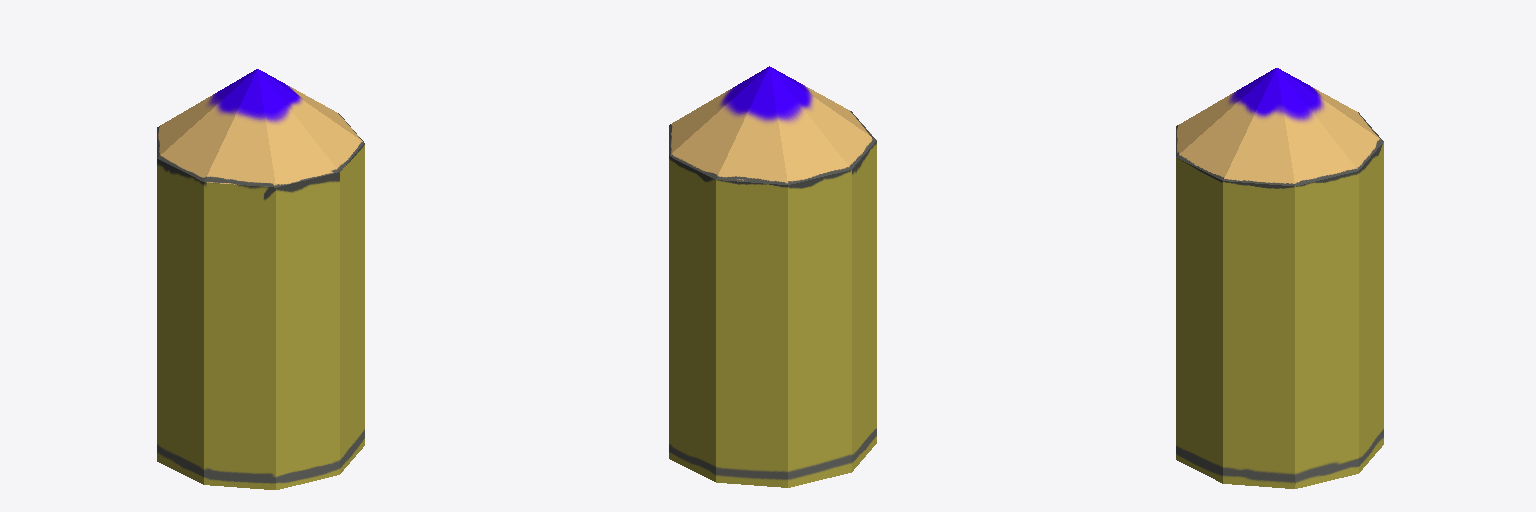
3 renders of one model, left to right at view 1: azimuth 30°, elevation 25°; view 2: azimuth 150°, elevation 25°; view 3: azimuth 270°, elevation 25°, orthographic.
Parts seen in each view (by area): view 1: Circle; view 2: Circle; view 3: Circle.
Boxes of the visible parts, x1=… form: Circle: x1=157, y1=69, x2=364, y2=489; Circle: x1=669, y1=66, x2=876, y2=487; Circle: x1=1176, y1=68, x2=1383, y2=488.
Bounding box in the file's own units: 1.05 × 2.07 × 1.03.
Materials: 1 (1 with a texture image).